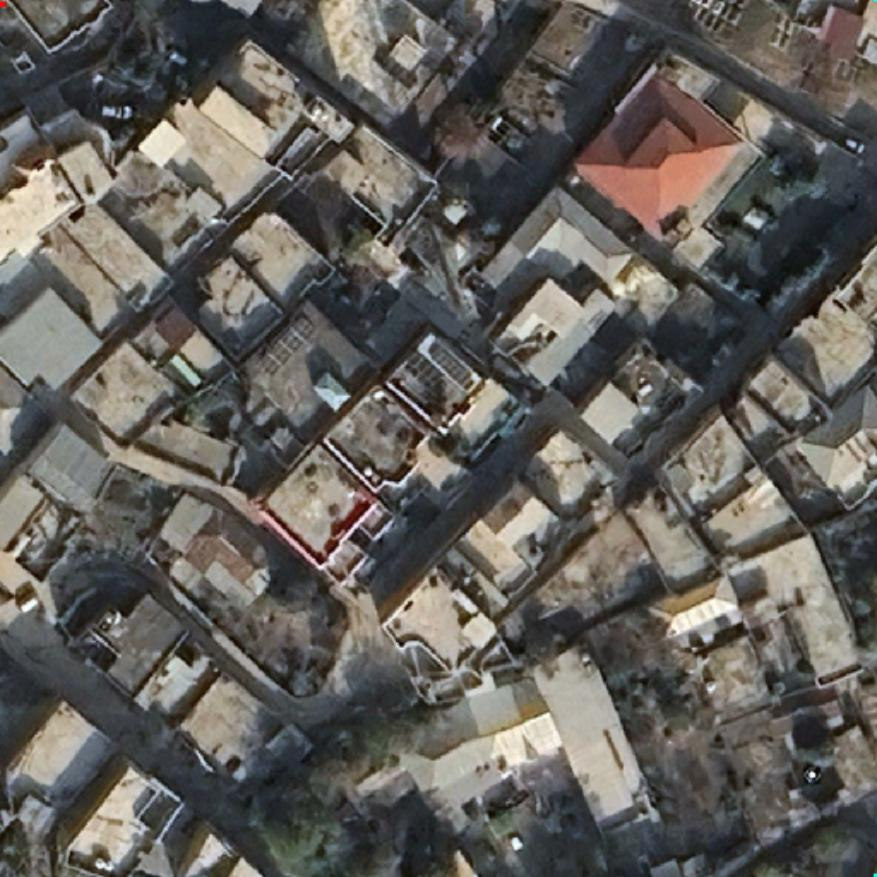Solarpanel: (251, 308, 323, 381), (401, 351, 466, 410), (425, 336, 478, 390)
